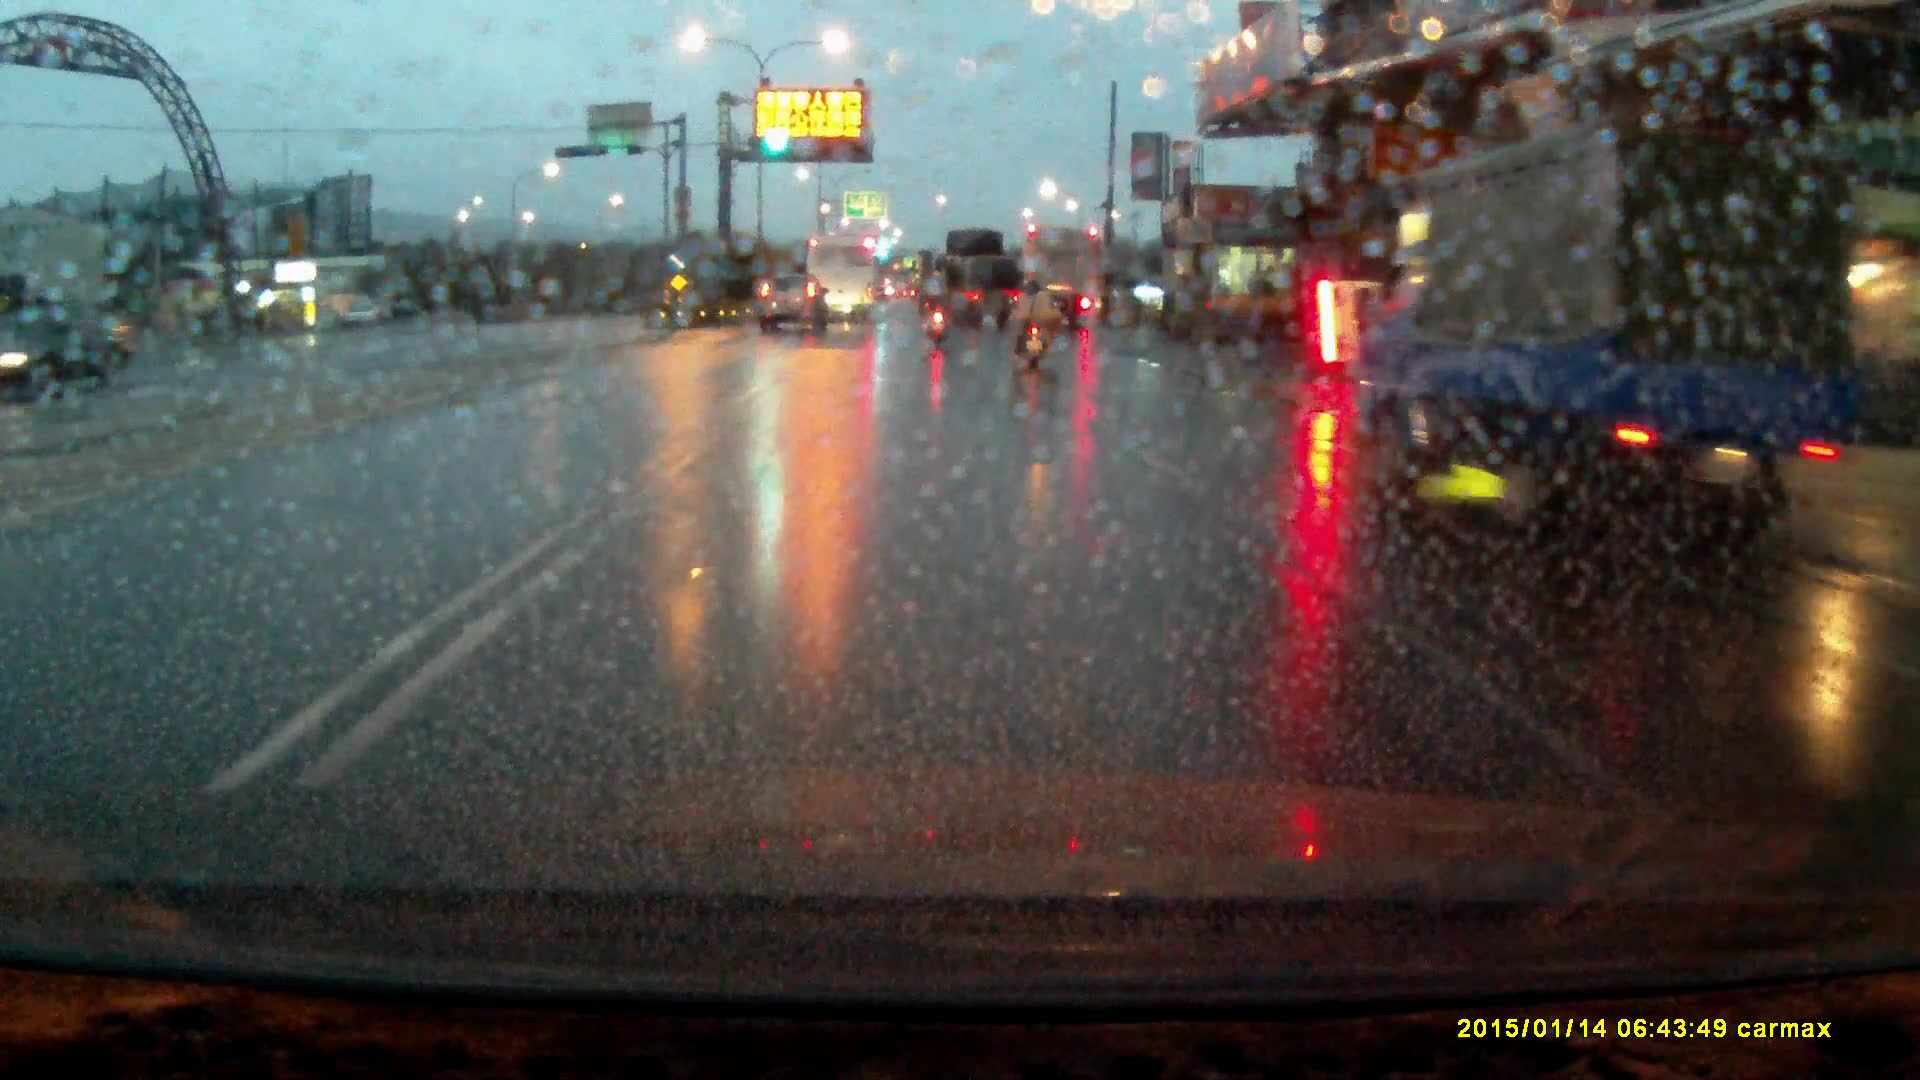rider: (1013, 270, 1050, 369), (926, 277, 951, 346)
vehicle: (1350, 115, 1818, 547), (934, 236, 1024, 343), (1, 324, 122, 404), (1024, 232, 1105, 330), (806, 241, 880, 330), (760, 280, 826, 340)
